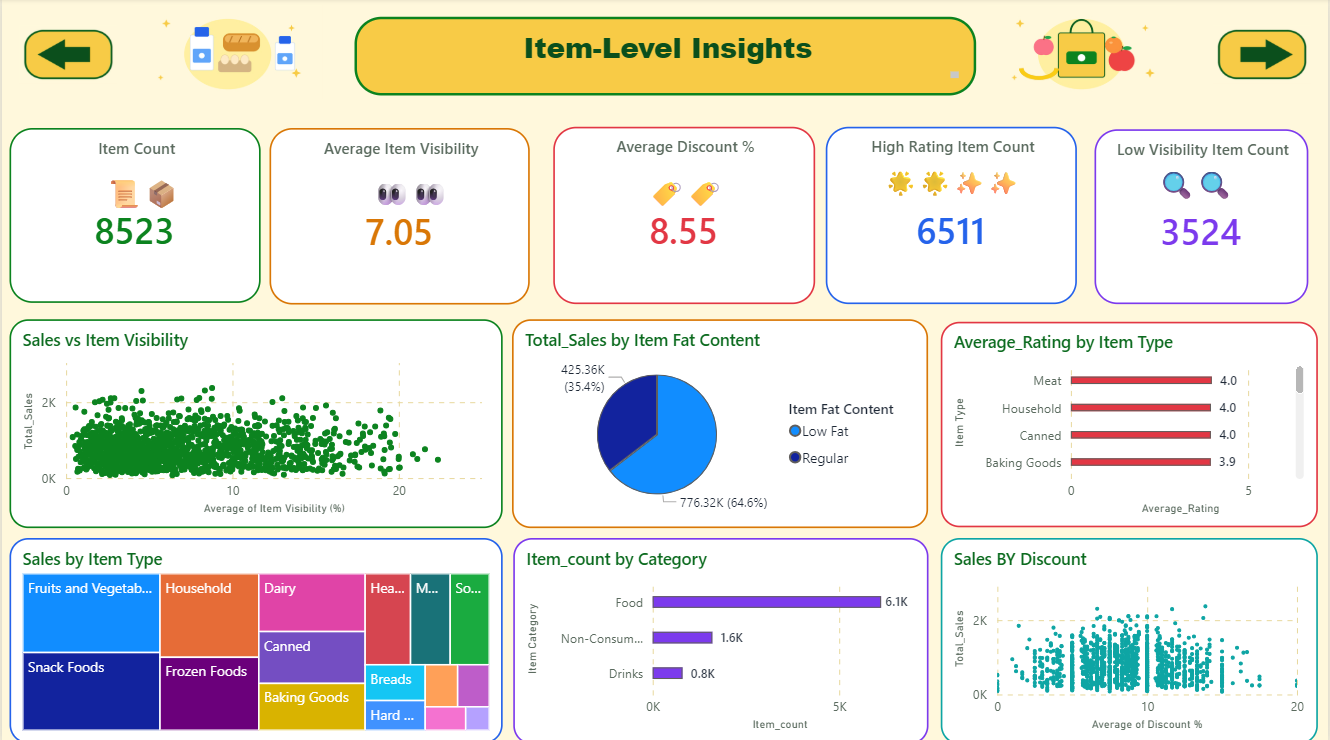

The page's visual inventory and layout, read from the dashboard file:
{"tool":"powerbi","page":{"name":"Item-Level Insights","canvas":[1280,720],"ordinal":4},"visuals":[{"type":"textbox","title":"Item-Level Insights","box":[340,18,600,76],"z":0},{"type":"image","box":[122,2,192,100],"z":1000},{"type":"image","box":[946,2,192,100],"z":2000},{"type":"cardVisual","title":"Item Count","fields":{"Data":["blinkit_data_master.Item_count"]},"box":[7.5,125,242.5,168.8],"z":3000},{"type":"cardVisual","title":"Average Item Visibility","fields":{"Data":["blinkit_data_master.Average_item_visibility"]},"box":[258.8,125,251.2,170],"z":4000},{"type":"cardVisual","title":"Average Discount %","fields":{"Data":["blinkit_data_master.average_discount_%"]},"box":[532.5,123.8,252.5,171.2],"z":5000},{"type":"cardVisual","title":"High Rating Item Count","fields":{"Data":["blinkit_data_master.High_Rating_Item_count"]},"box":[795,123.8,242.5,171.2],"z":6000},{"type":"cardVisual","title":"Low Visibility Item Count","fields":{"Data":["blinkit_data_master.Low_visibility_Item_count"]},"box":[1055,126.2,206.2,168.8],"z":7000},{"type":"scatterChart","title":"Sales vs Item Visibility","fields":{"X":["Avg(blinkit_data_master.Item Visibility (%))"],"Category":["blinkit_data_master.Item Identifier"],"Y":["blinkit_data_master.Total_Sales"]},"box":[7.5,310,476.2,201.2],"z":8000},{"type":"pieChart","fields":{"Y":["blinkit_data_master.Total_Sales"],"Category":["blinkit_data_master.Item Fat Content"]},"box":[492.5,310,401.2,201.2],"z":9000},{"type":"treemap","title":"Sales by Item Type","fields":{"Values":["blinkit_data_master.Total_Sales"],"Group":["blinkit_data_master.Item Type"]},"box":[7.5,521.2,476.2,198.8],"z":10000},{"type":"clusteredBarChart","fields":{"Y":["blinkit_data_master.Average_Rating"],"Category":["blinkit_data_master.Item Type"]},"box":[906.2,312.5,363.8,198.8],"z":11000},{"type":"clusteredBarChart","title":"Item_count by  Category","fields":{"Y":["blinkit_data_master.Item_count"],"Category":["blinkit_data_master.Item Category"]},"box":[493,521,401,199],"z":12000},{"type":"scatterChart","title":"Sales  BY Discount","fields":{"X":["Avg(blinkit_data_master.Discount %)"],"Y":["blinkit_data_master.Total_Sales"],"Category":["blinkit_data_master.Item Identifier"]},"box":[906,521,364,199],"z":13000},{"type":"textbox","box":[25,165,221.2,45],"z":14000},{"type":"textbox","box":[288.6,165.1,212.8,94.2],"z":15000},{"type":"textbox","box":[551.5,165.1,217.7,148],"z":16000},{"type":"textbox","box":[816.9,156.5,200.5,138.2],"z":17000},{"type":"textbox","box":[1065.1,156.5,173.6,231.1],"z":18000},{"type":"image","box":[12,22,104,66],"z":19000},{"type":"image","box":[1164,22,104,66],"z":20000}]}

Visuals, with their boxes in screenshot pixels (x1, y1, x2, y2), scaled from the page's 1280x720 canvas onto the 1330x740 screenshot:
"Item-Level Insights" textbox: l=353, t=18, r=977, b=97
image: l=127, t=2, r=326, b=105
image: l=983, t=2, r=1182, b=105
"Item Count" cardVisual: l=8, t=128, r=260, b=302
"Average Item Visibility" cardVisual: l=269, t=128, r=530, b=303
"Average Discount %" cardVisual: l=553, t=127, r=816, b=303
"High Rating Item Count" cardVisual: l=826, t=127, r=1078, b=303
"Low Visibility Item Count" cardVisual: l=1096, t=130, r=1310, b=303
"Sales vs Item Visibility" scatterChart: l=8, t=319, r=503, b=525
pieChart - blinkit_data_master.Total_Sales x blinkit_data_master.Item Fat Content: l=512, t=319, r=929, b=525
"Sales by Item Type" treemap: l=8, t=536, r=503, b=739
clusteredBarChart - blinkit_data_master.Average_Rating x blinkit_data_master.Item Type: l=942, t=321, r=1320, b=526
"Item_count by  Category" clusteredBarChart: l=512, t=535, r=929, b=739
"Sales  BY Discount" scatterChart: l=941, t=535, r=1320, b=739
textbox: l=26, t=170, r=256, b=216
textbox: l=300, t=170, r=521, b=267
textbox: l=573, t=170, r=799, b=322
textbox: l=849, t=161, r=1057, b=303
textbox: l=1107, t=161, r=1287, b=398
image: l=12, t=23, r=121, b=90
image: l=1209, t=23, r=1318, b=90
